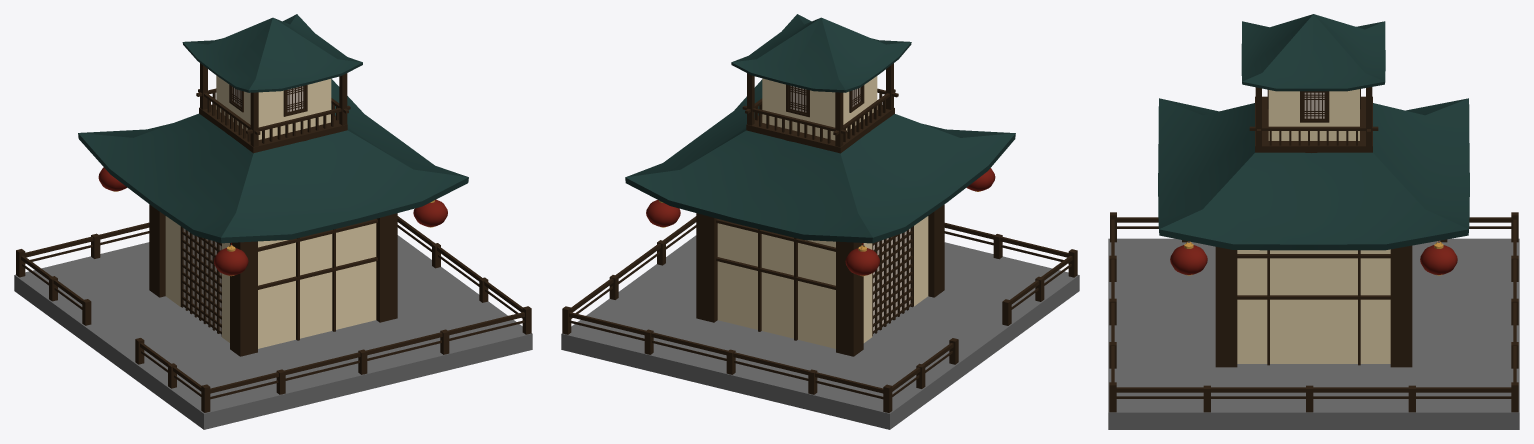
File: houme02_2.fbx
3 views of the same model, side by side, from view 1: azimuth 30°, elevation 25°; view 2: azimuth 150°, elevation 25°; view 3: azimuth 270°, elevation 25° (orthographic). The views are drawn at different scales.
Parts seen in each view (by area): view 1: houme02_2; view 2: houme02_2; view 3: houme02_2.
Boxes of the visible parts, x1,y1,x2,y2 form: houme02_2: (14,14,532,429); houme02_2: (561,14,1079,429); houme02_2: (1108,14,1519,429).
Bounding box in the file's own units: 1200 × 1058 × 1200.
